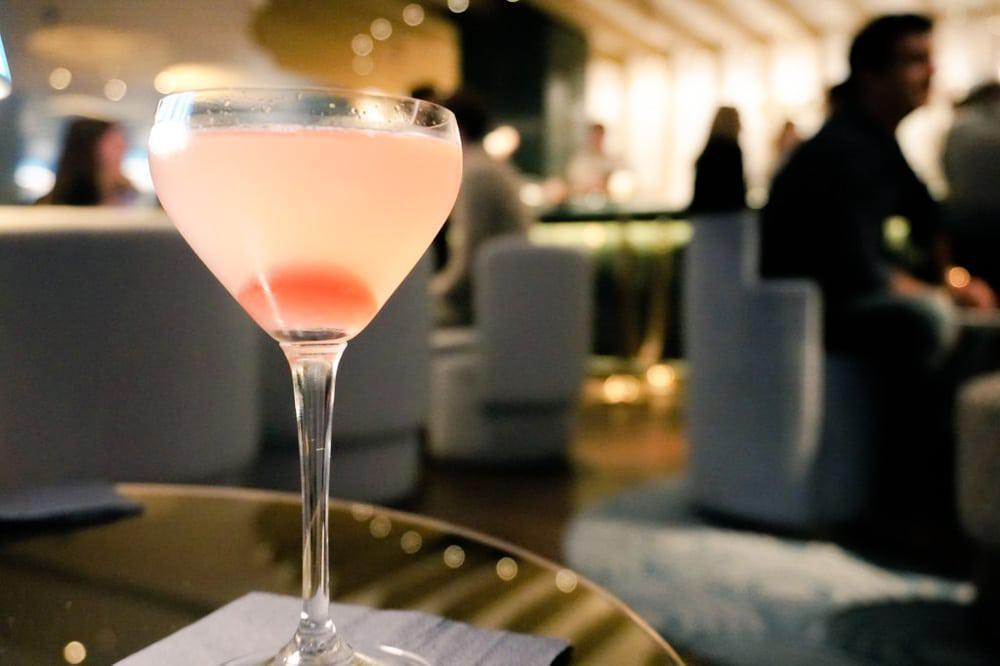glass-wine: (146, 82, 465, 664)
